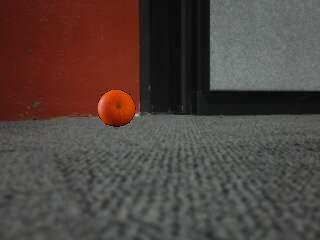Orange: (98, 90, 139, 128)
